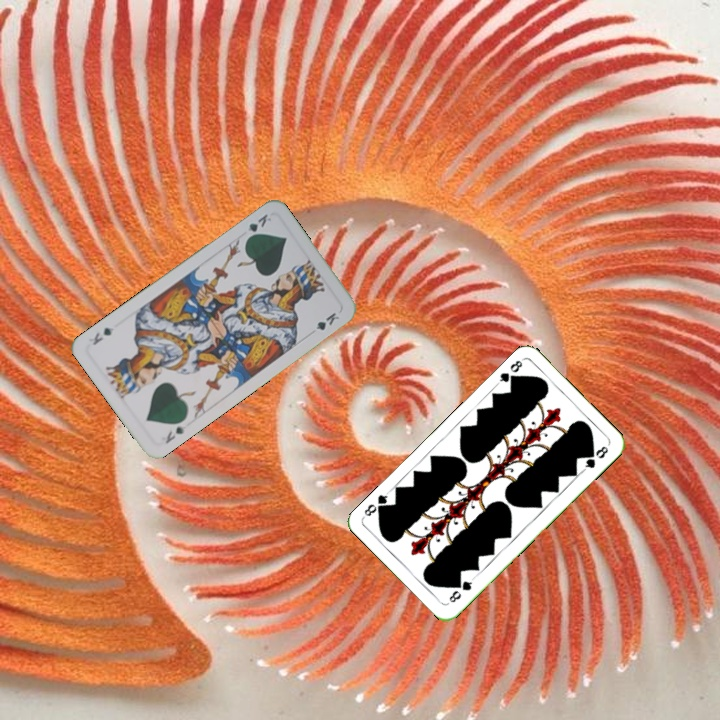G8: (493, 355, 525, 387), (445, 574, 476, 605)
GK: (242, 210, 274, 242), (161, 421, 189, 447)
